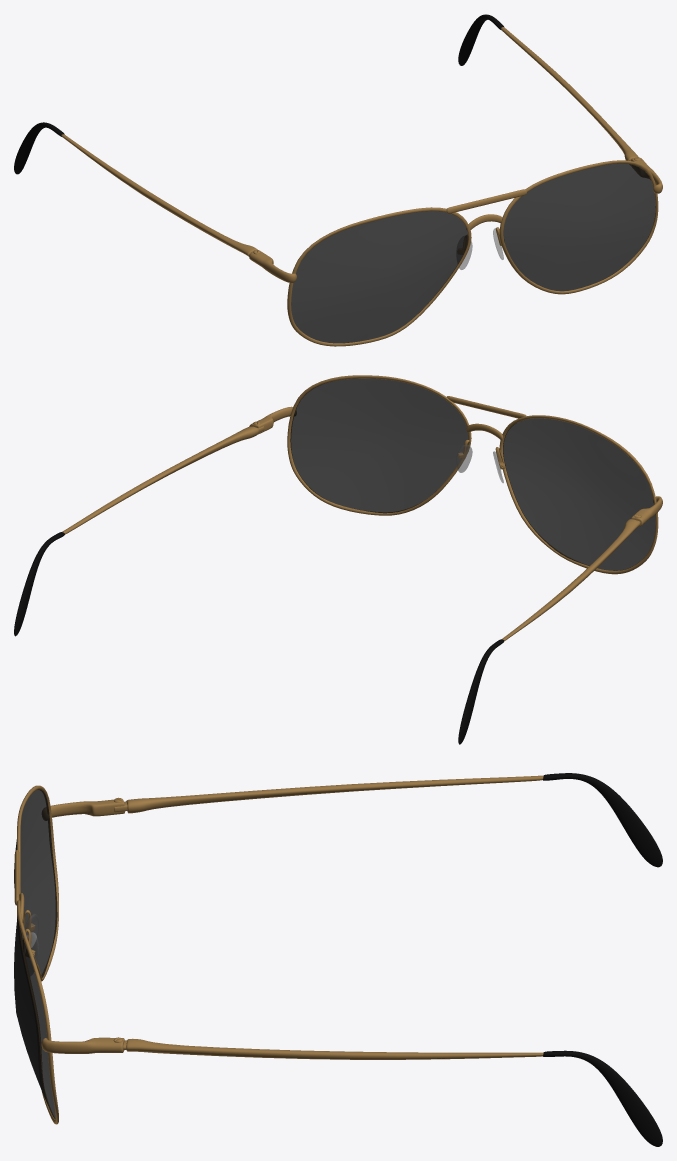
Rendered from aviator.dae.
3 views of the same model, one above another, from view 1: azimuth 30°, elevation 25°; view 2: azimuth 150°, elevation 25°; view 3: azimuth 270°, elevation 25° (orthographic). The views are drawn at different scales.
Parts seen in each view (by area): view 1: emandjoejsunglAviator; view 2: emandjoejsunglAviator; view 3: emandjoejsunglAviator.
Part boxes in pixels (<box>): emandjoejsunglAviator: <box>14,14,662,346</box>; emandjoejsunglAviator: <box>14,375,662,744</box>; emandjoejsunglAviator: <box>14,773,662,1146</box>.
Size of the model in its own units: 15.76 by 4.48 by 15.3.
